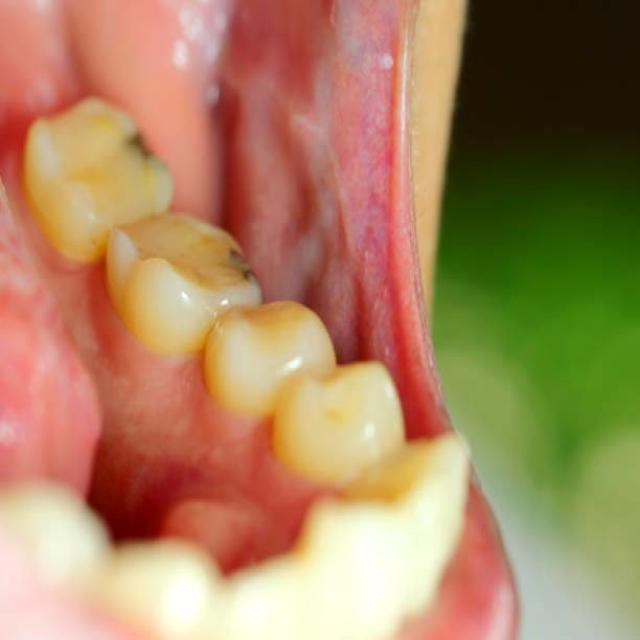calculus: (192, 223, 253, 286), (121, 127, 165, 177)
